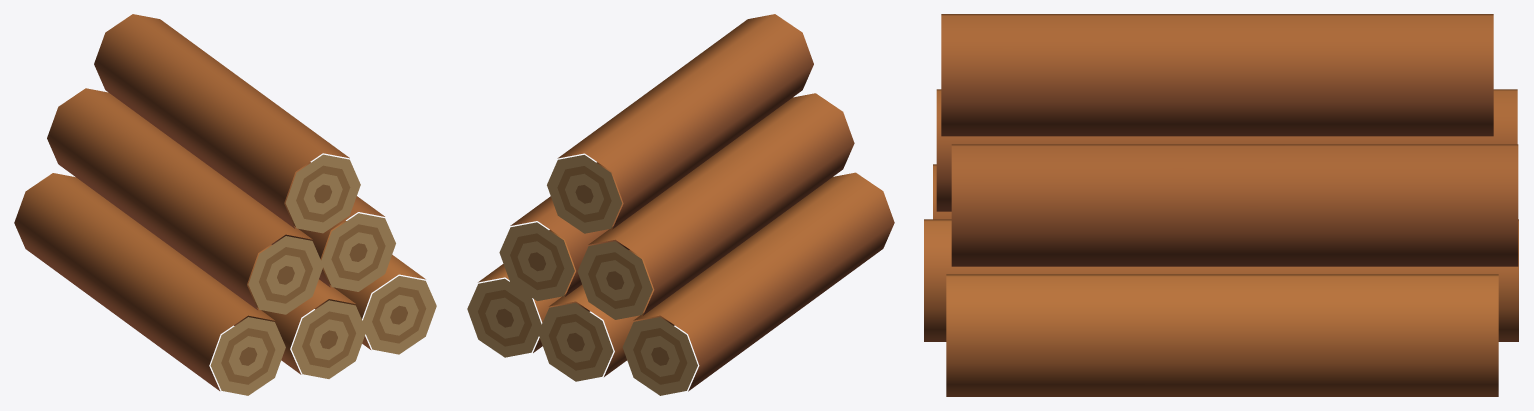
File: log-stack.glb
3 renders of one model, left to right at view 1: azimuth 30°, elevation 25°; view 2: azimuth 150°, elevation 25°; view 3: azimuth 270°, elevation 25°, orthographic. The views are drawn at different scales.
Parts seen in each view (by area): view 1: log.stack; view 2: log.stack; view 3: log.stack.
Part boxes in pixels (box(x1,y1,x2,y2)): log.stack: box(14, 14, 436, 395); log.stack: box(467, 14, 894, 395); log.stack: box(924, 14, 1518, 396).
Bounding box in the file's own units: 1.38 × 1.26 × 2.1.
